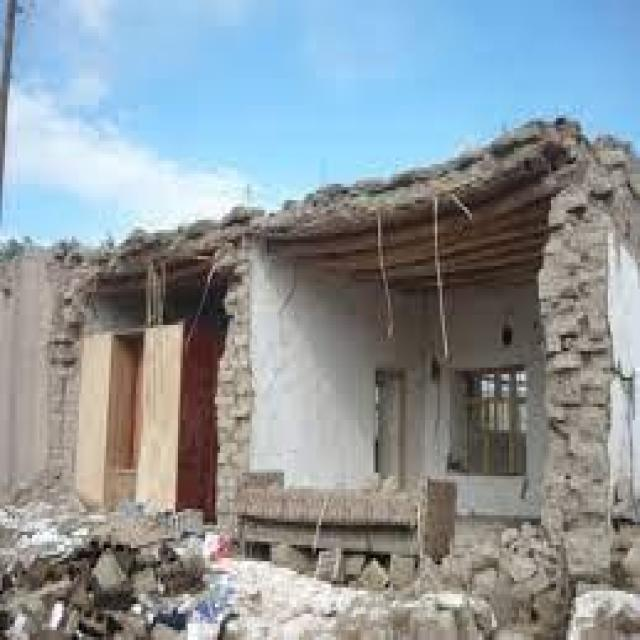diagonal crack: (252, 263, 318, 428)
